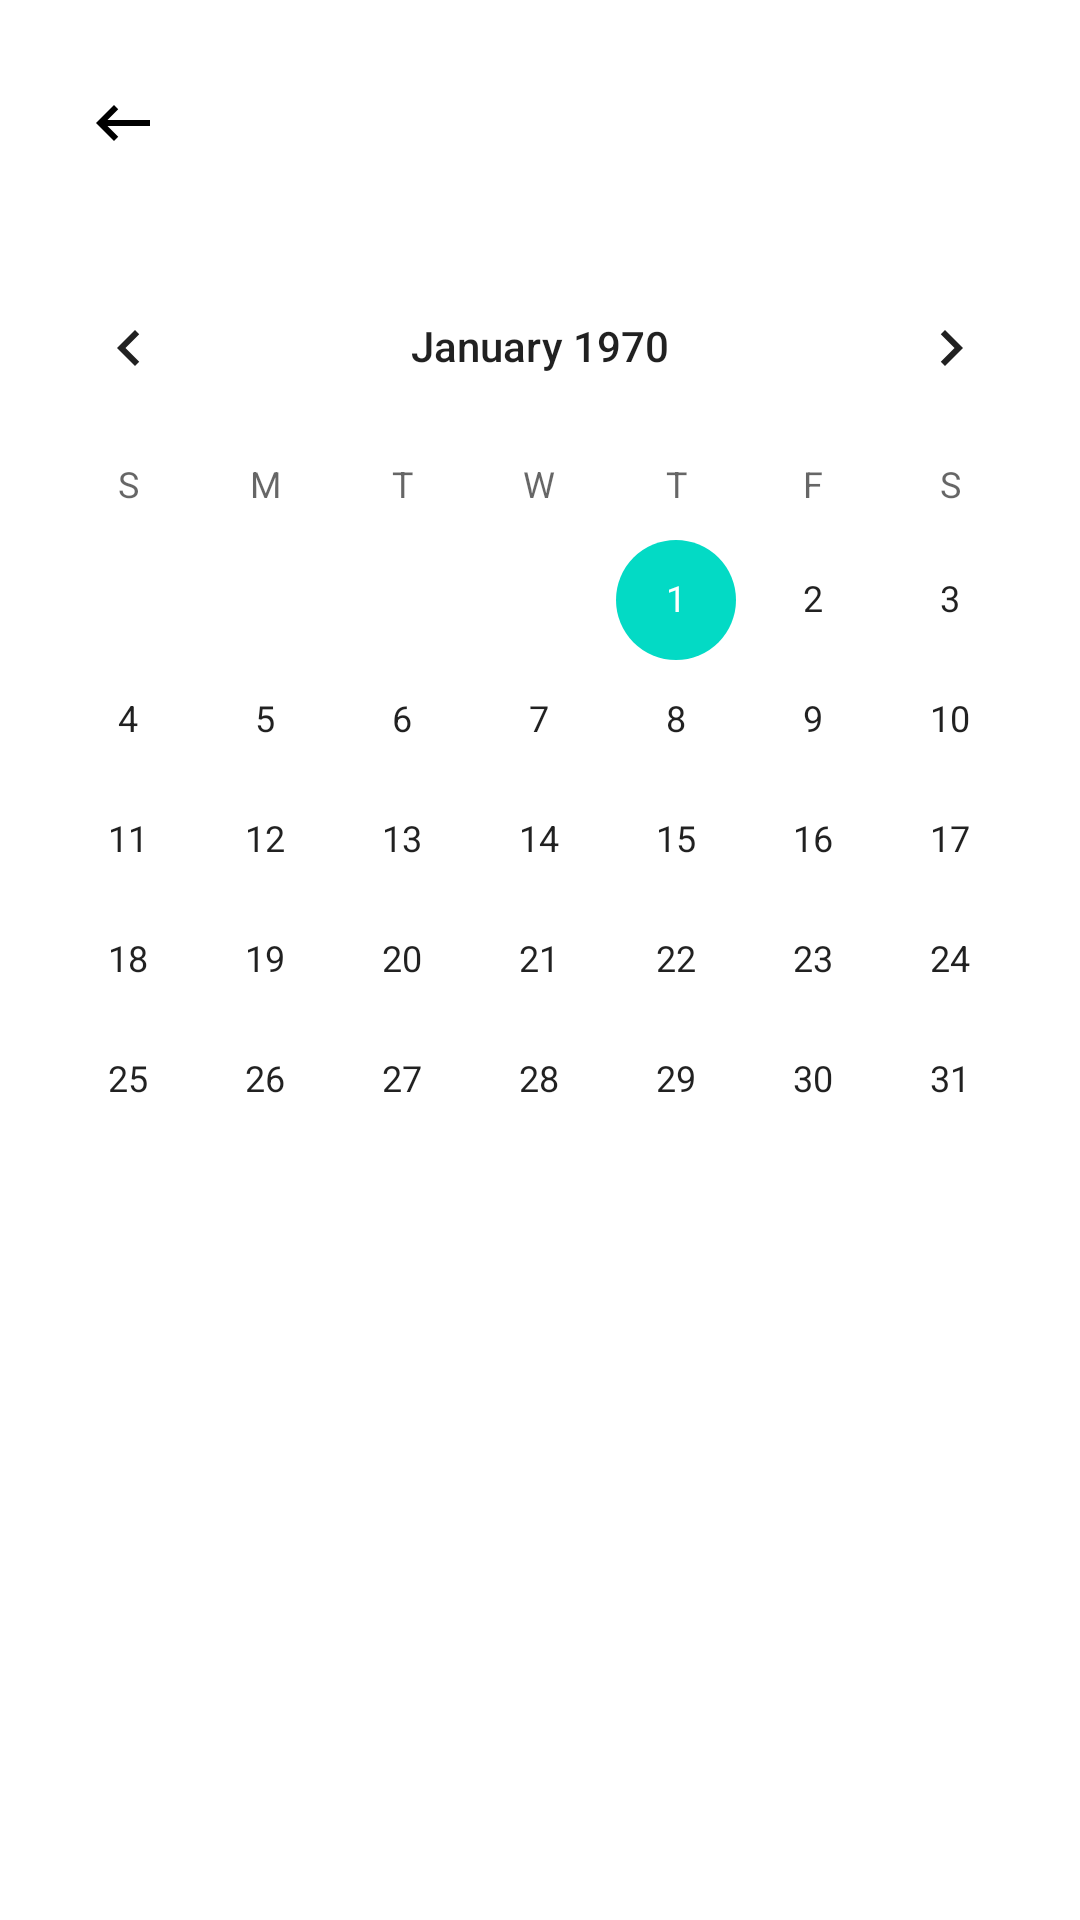

Named icons in this screenshot (1080px x 1920px) and their centers, [x,y]:
keyboard backspace: [123,123]
